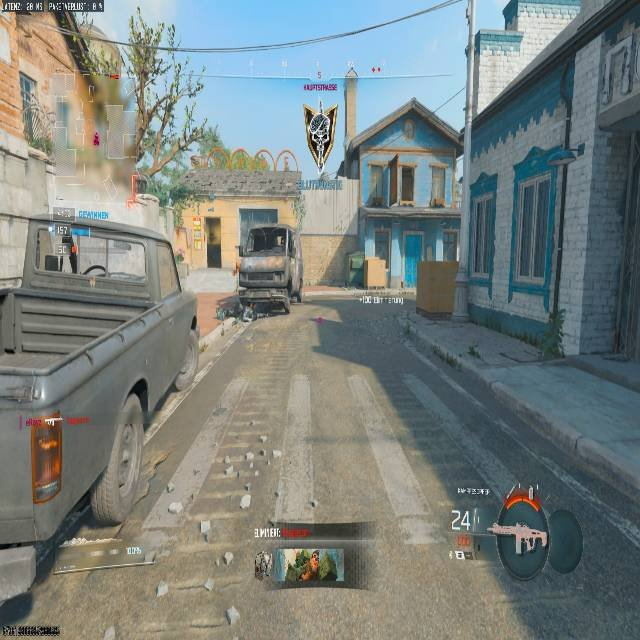player: (62, 234, 77, 272)
